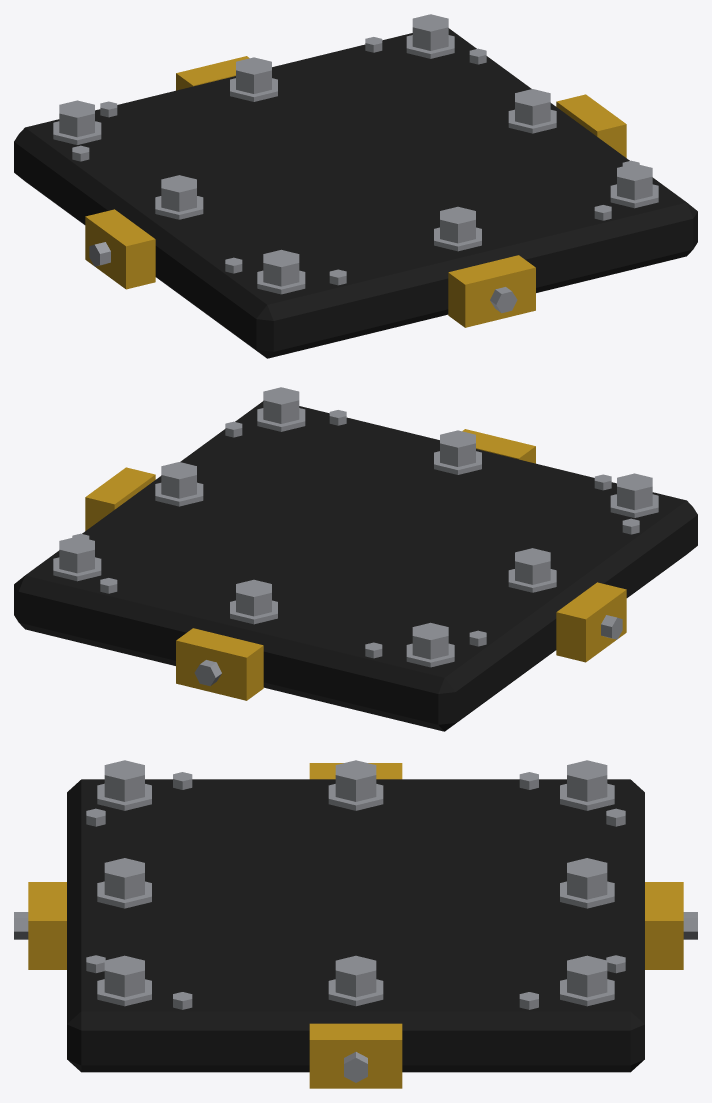
File: dr5_flange.obj
3 renders of one model, top to bottom at view 1: azimuth 30°, elevation 25°; view 2: azimuth 150°, elevation 25°; view 3: azimuth 270°, elevation 25°, orthographic. The views are drawn at different scales.
Parts seen in each view (by area): view 1: dr5_flange; view 2: dr5_flange; view 3: dr5_flange.
Part boxes in pixels (x1=…): dr5_flange: x1=14, y1=14, x2=697, y2=358; dr5_flange: x1=14, y1=387, x2=697, y2=731; dr5_flange: x1=14, y1=760, x2=697, y2=1088.
Size of the model in its own units: 1.42 by 0.203 by 1.42.
